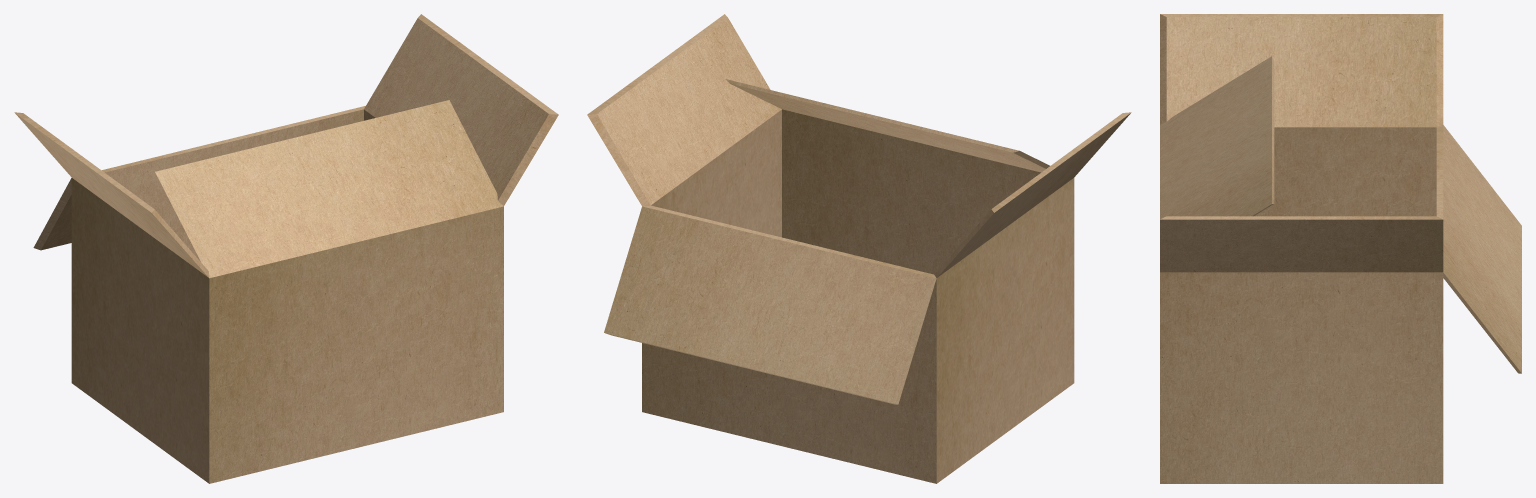
3 renders of one model, left to right at view 1: azimuth 30°, elevation 25°; view 2: azimuth 150°, elevation 25°; view 3: azimuth 270°, elevation 25°, orthographic. The views are drawn at different scales.
Parts seen in each view (by area): view 1: F_Box_01; view 2: F_Box_01; view 3: F_Box_01.
Part boxes in pixels (bbox=[...]): F_Box_01: bbox=[14, 14, 558, 483]; F_Box_01: bbox=[587, 14, 1131, 483]; F_Box_01: bbox=[1160, 14, 1521, 483].
Bounding box in the file's own units: 64.81 × 43.35 × 48.5.
1 material, 1 textured.
